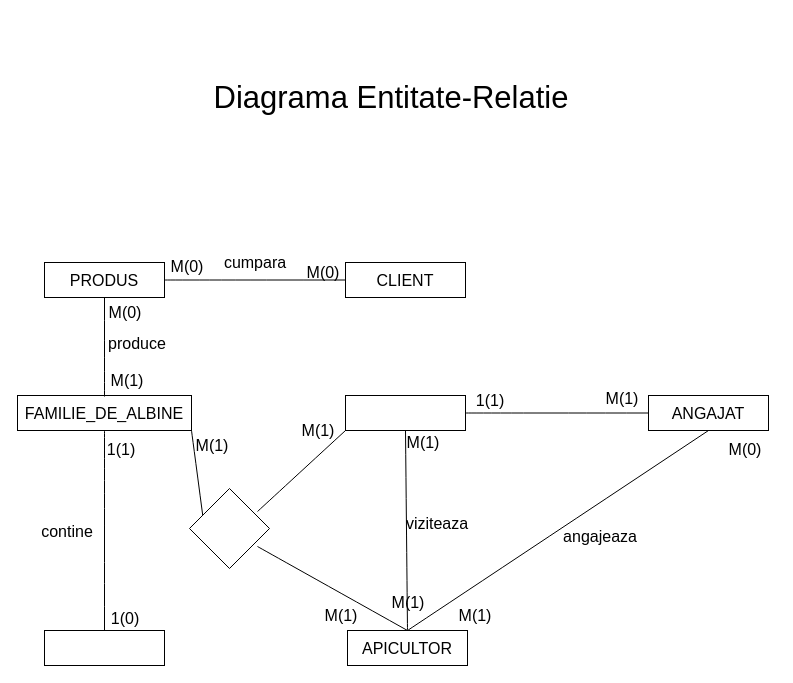
Some shapes in this 793 by 683 pixel diagram are drawn without their labels. The centre of each missing label's shape, as x and y in pixels:
"LOCATIE" goes at pixel 405 412.
"MATCA" goes at pixel 104 648.
"VERIFICA" goes at pixel 229 528.
